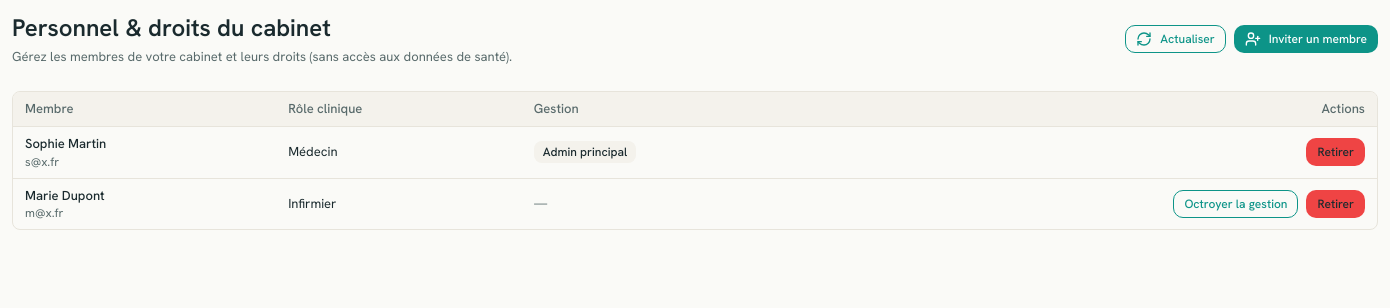
Test case: MembersManagementClient › erreur de mutation → message d'alerte (pas d'échec silencieux)
Expected: the text "Marie Dupont" is shown, 25,187 -> 105,204
Step 1. Click the button "Octroyer la gestion" → {"x": 1236, "y": 204}, box 1173,190 -> 1298,218
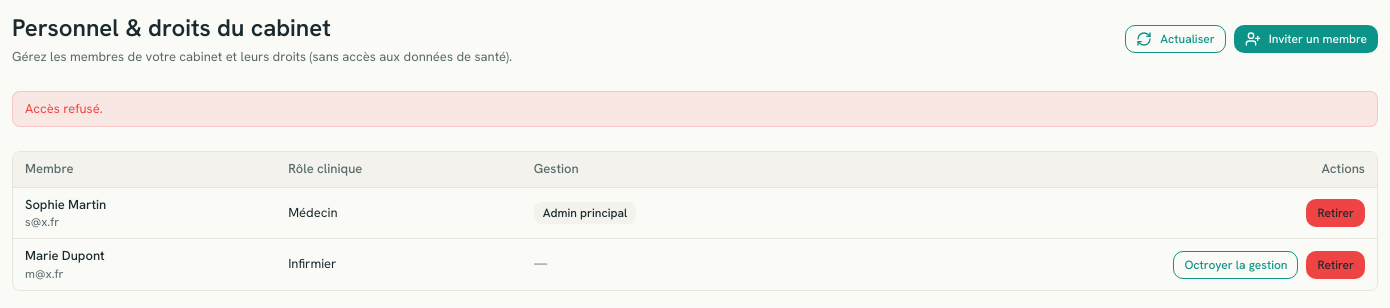
Now the message "Accès refusé." is shown, box 12,91 -> 1378,127
